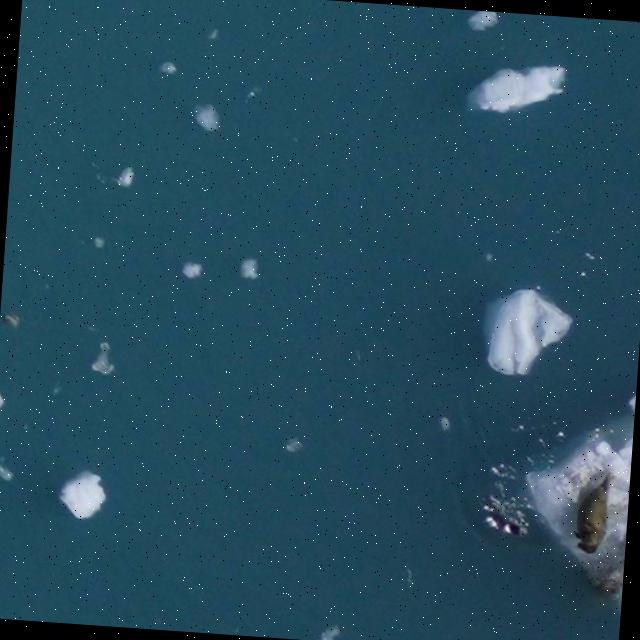seal: (575, 473, 612, 553)
